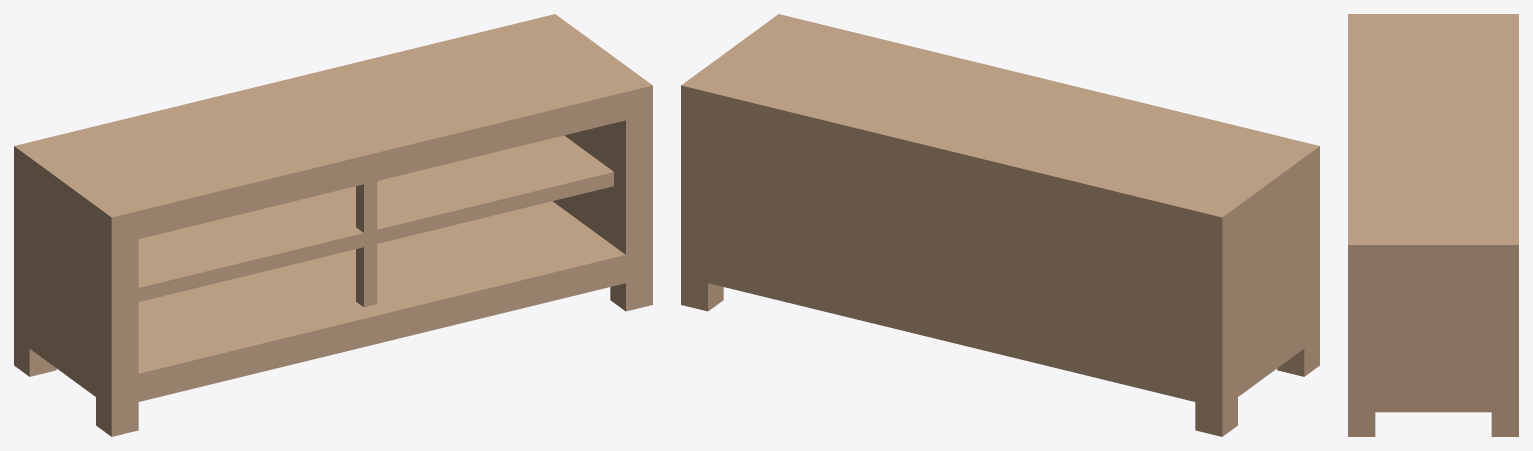
Rendered from cabinetTelevision.glb.
The picture shows the model from 3 angles, left to right: view 1: azimuth 30°, elevation 25°; view 2: azimuth 150°, elevation 25°; view 3: azimuth 270°, elevation 25°; orthographic projection. The views are drawn at different scales.
Visible parts, largest first — view 1: cabinetTelevision; view 2: cabinetTelevision; view 3: cabinetTelevision.
Boxes of the visible parts, left/top/right/bottom form: cabinetTelevision: left=14, top=14, right=652, bottom=436; cabinetTelevision: left=681, top=14, right=1319, bottom=436; cabinetTelevision: left=1348, top=14, right=1518, bottom=436.
Bounding box in the file's own units: 0.8 × 0.31 × 0.25.
